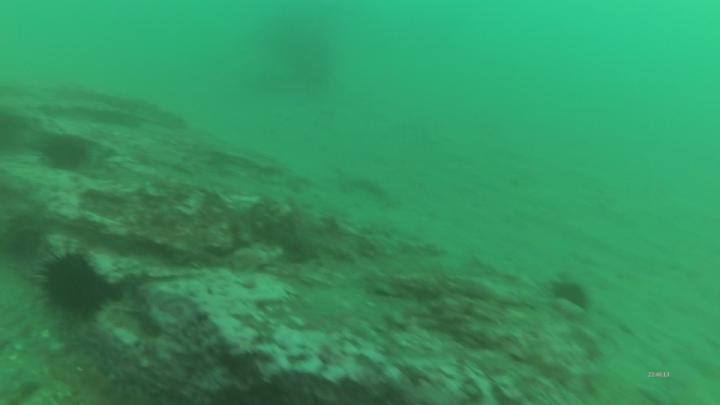echinus: (31, 245, 116, 328), (40, 133, 89, 178), (550, 278, 593, 316), (344, 175, 389, 201)
